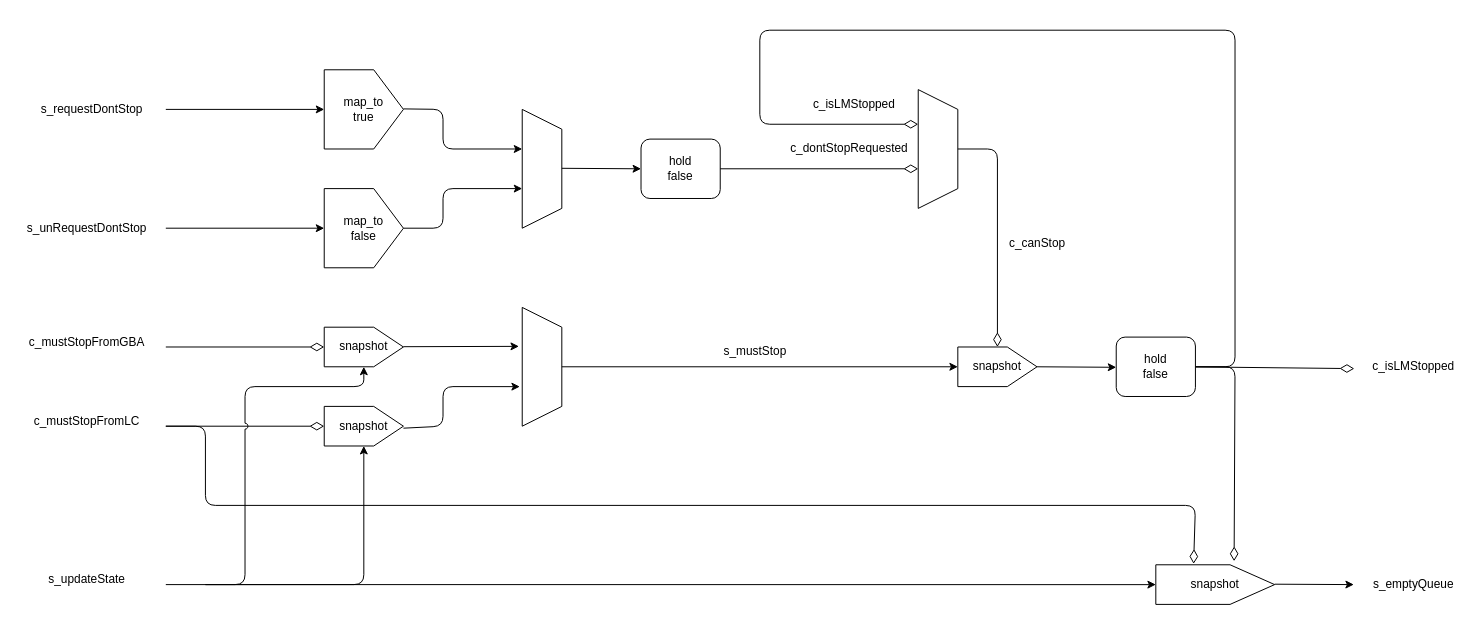
Some shapes in this 1484 by 622 pixel diagram are drawn without their labels. The box of each missing label's shape, as (x1, y1, x2, y2) in pixels:
lift: (917, 89, 958, 208)
merge: (521, 306, 562, 426)
or_else: (521, 108, 562, 228)
